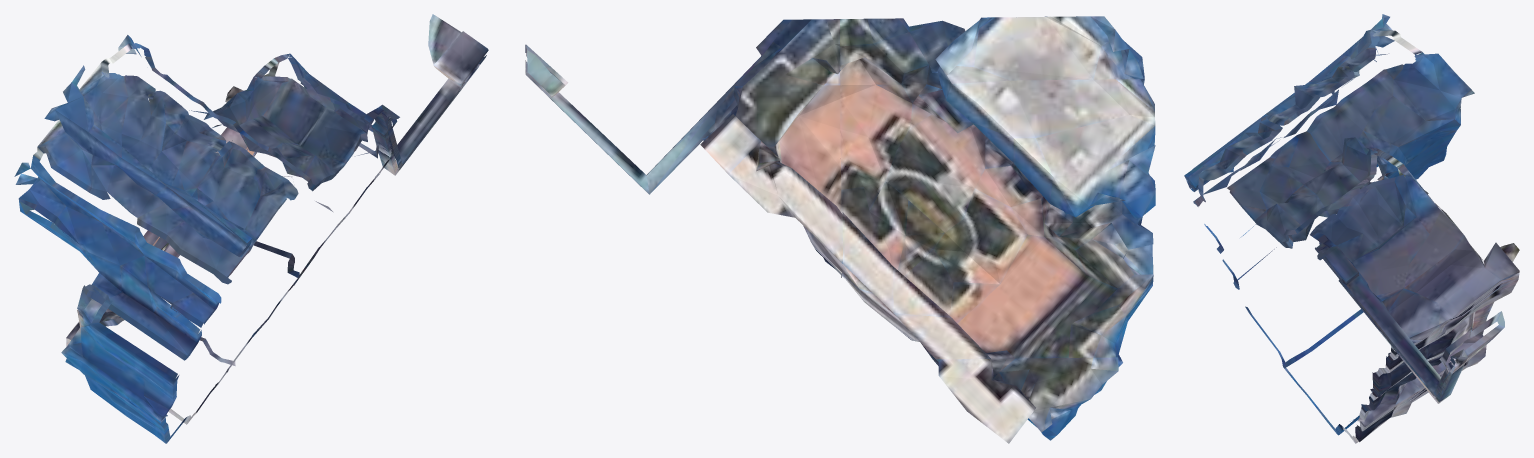
3 views of the same model, side by side, from view 1: azimuth 30°, elevation 25°; view 2: azimuth 150°, elevation 25°; view 3: azimuth 270°, elevation 25° (orthographic). The views are drawn at different scales.
Bounding box in the file's own units: 39.16 × 28.39 × 22.2.
1 material, 1 textured.
